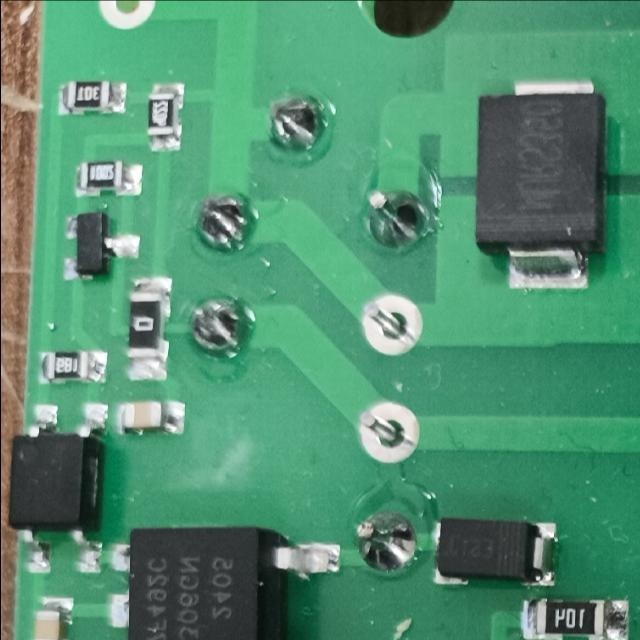chip-capacitor: (114, 397, 186, 435), (31, 595, 74, 640)
chip-resistor: (126, 273, 173, 382), (520, 598, 629, 640), (145, 78, 184, 154), (56, 79, 128, 117), (73, 159, 143, 198), (36, 348, 107, 386)
diode: (471, 76, 608, 291), (430, 517, 557, 588)
ic: (104, 525, 343, 640), (7, 400, 108, 575)
transistor: (60, 208, 141, 283)
